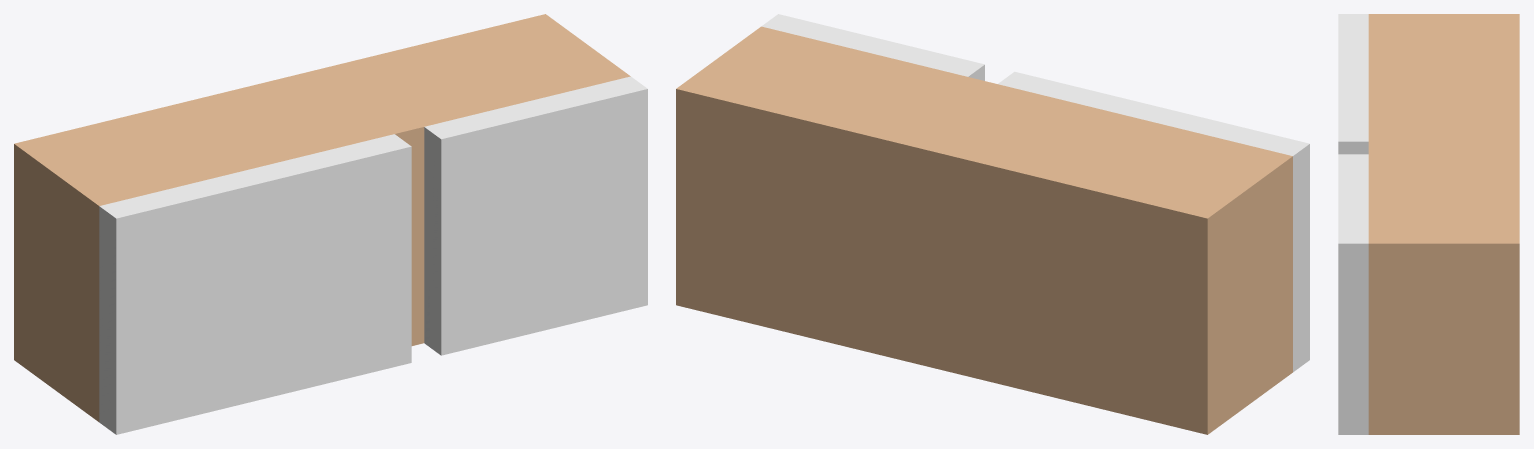
The model's file is CabinetBathroom.obj.
3 views of the same model, side by side, from view 1: azimuth 30°, elevation 25°; view 2: azimuth 150°, elevation 25°; view 3: azimuth 270°, elevation 25° (orthographic). The views are drawn at different scales.
Size of the model in its own units: 18 by 7 by 6.
1 material, 1 textured.
